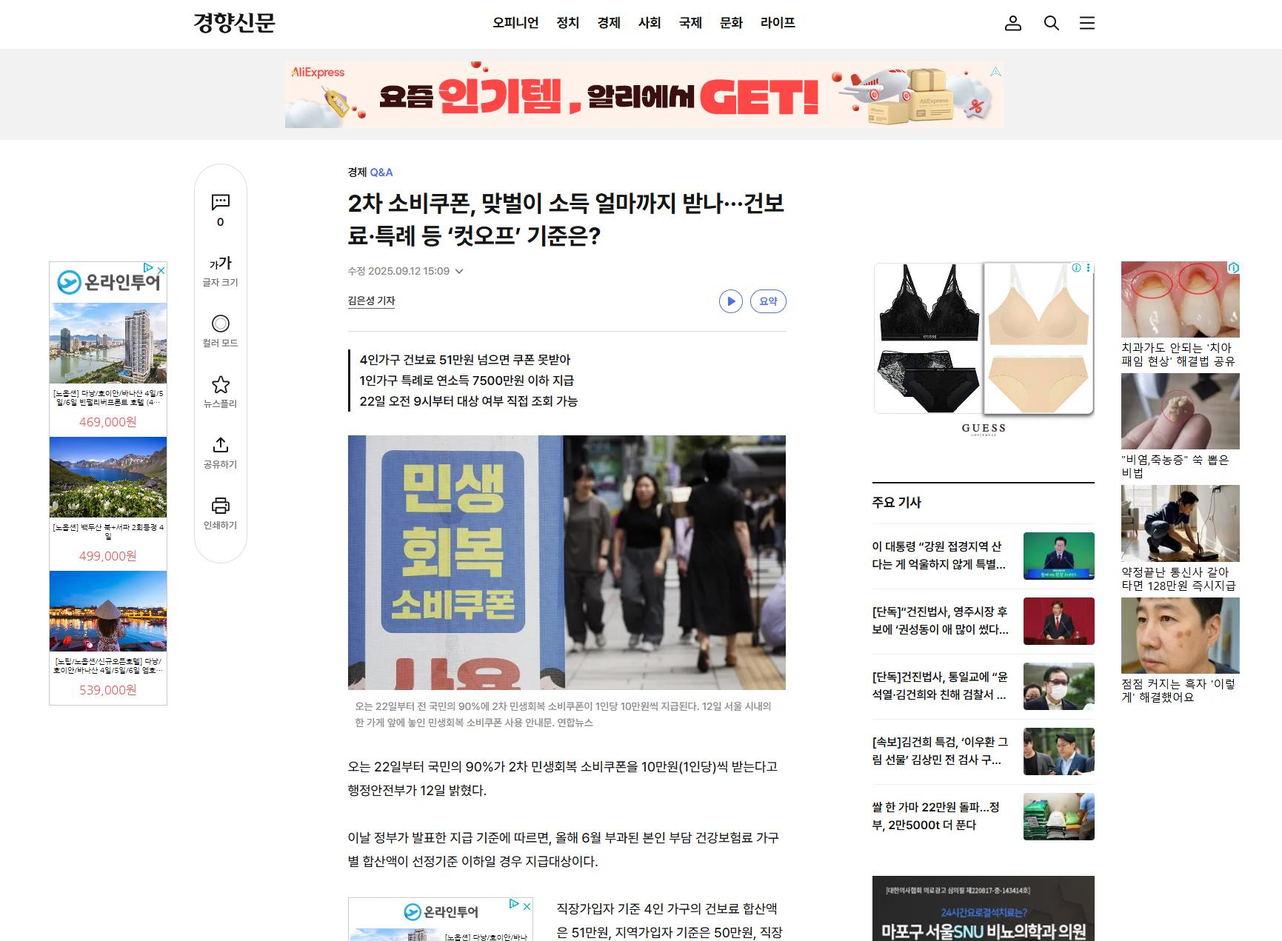button: (552, 4, 586, 41), (758, 9, 802, 37), (596, 4, 631, 39), (493, 11, 545, 34), (716, 9, 751, 39), (1002, 11, 1031, 37), (1074, 13, 1106, 35), (679, 6, 705, 33), (641, 10, 668, 34), (1045, 11, 1063, 35)
popup: (1121, 263, 1243, 706), (284, 61, 1009, 131), (51, 263, 165, 707), (872, 258, 1101, 440), (875, 877, 1095, 941), (344, 898, 539, 941)
